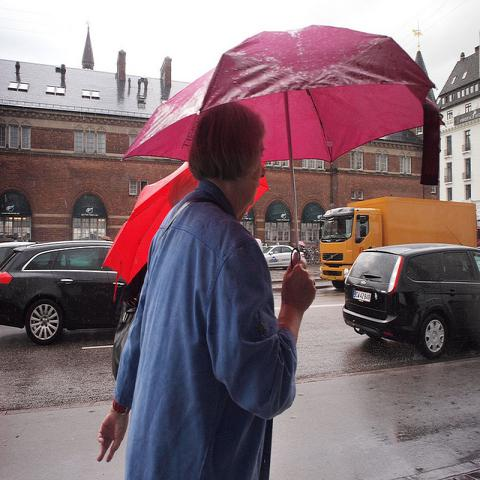car: (343, 241, 479, 359), (1, 239, 133, 349), (264, 244, 305, 269), (0, 241, 37, 267), (476, 226, 480, 246)
truck: (322, 195, 479, 290)
